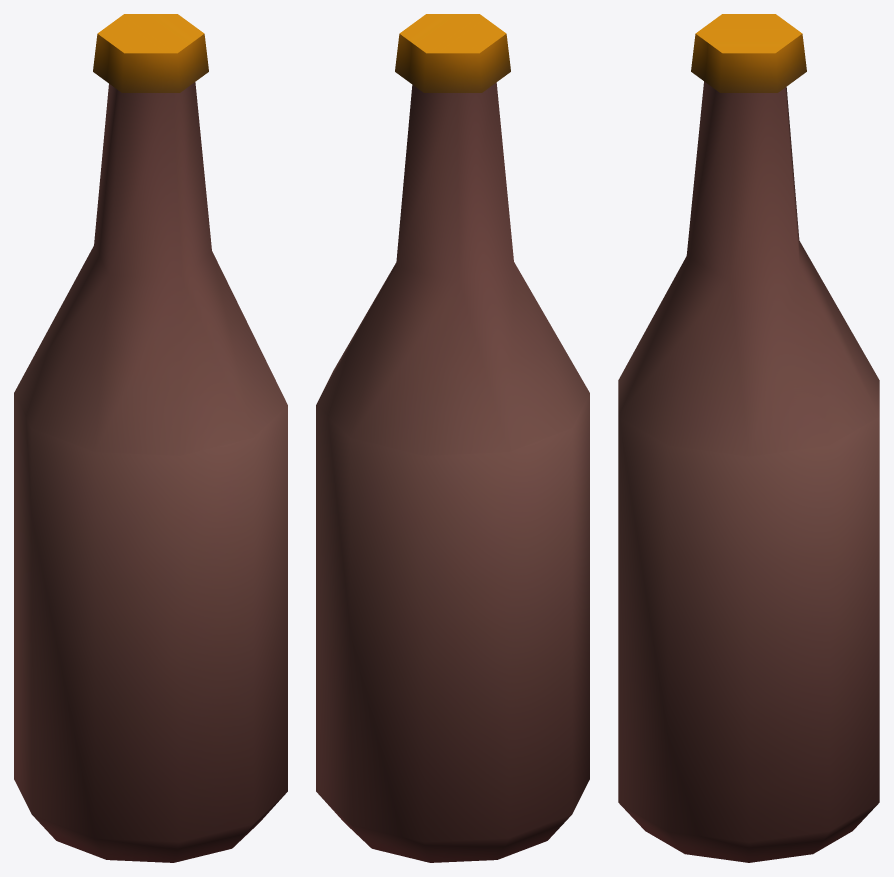
The model's file is Beer_Bottle_1A.fbx.
The picture shows the model from 3 angles, left to right: view 1: azimuth 30°, elevation 25°; view 2: azimuth 150°, elevation 25°; view 3: azimuth 270°, elevation 25°; orthographic projection.
Parts seen in each view (by area): view 1: Beer_Bottle_1A; view 2: Beer_Bottle_1A; view 3: Beer_Bottle_1A.
Boxes of the visible parts, x1,y1,x2,y2 form: Beer_Bottle_1A: (14,14,287,862); Beer_Bottle_1A: (316,14,589,862); Beer_Bottle_1A: (618,14,879,862).
Bounding box in the file's own units: 12.49 × 39.25 × 11.88.
